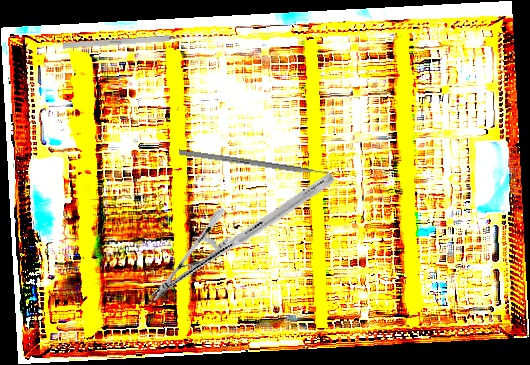Hook Surgical: (62, 33, 196, 49)
Needle Holder: (148, 126, 336, 349)
Pusher: (178, 149, 345, 179)
